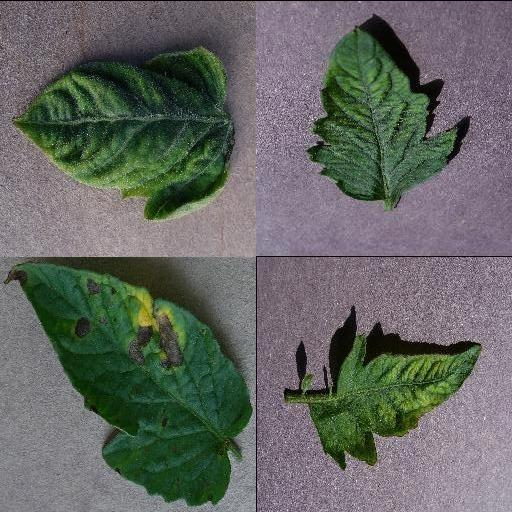Early Blight: (3, 260, 255, 506)
Mosaic Virus: (307, 23, 459, 199), (307, 331, 485, 471)
Yellow Leaf Curl Virus: (11, 45, 235, 219)
